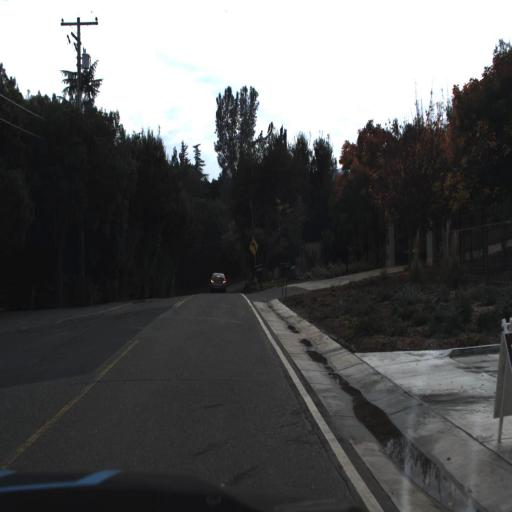car: (203, 263, 236, 296)
